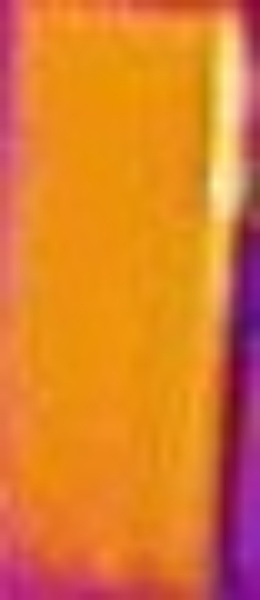Diode: (202, 18, 246, 321)
